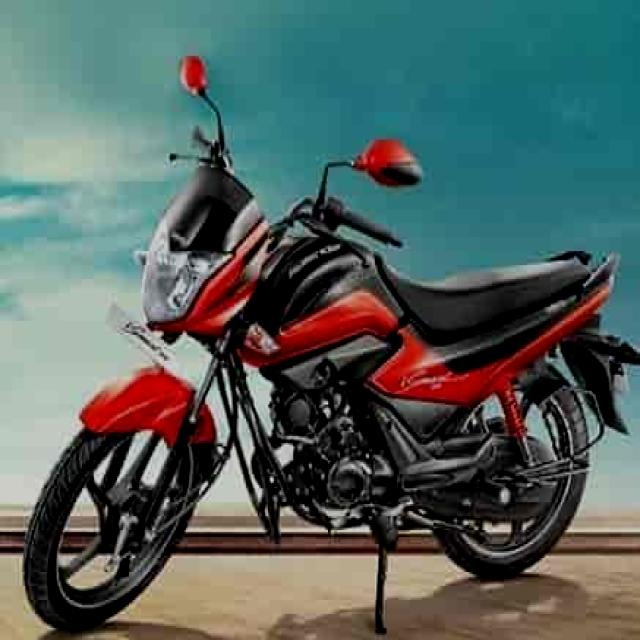MOTORCYCLE: (28, 173, 628, 627)
